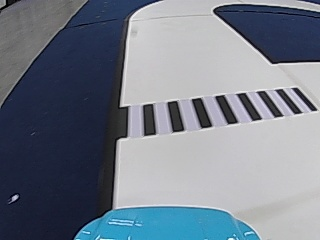CrossWalk: (118, 86, 312, 138)
